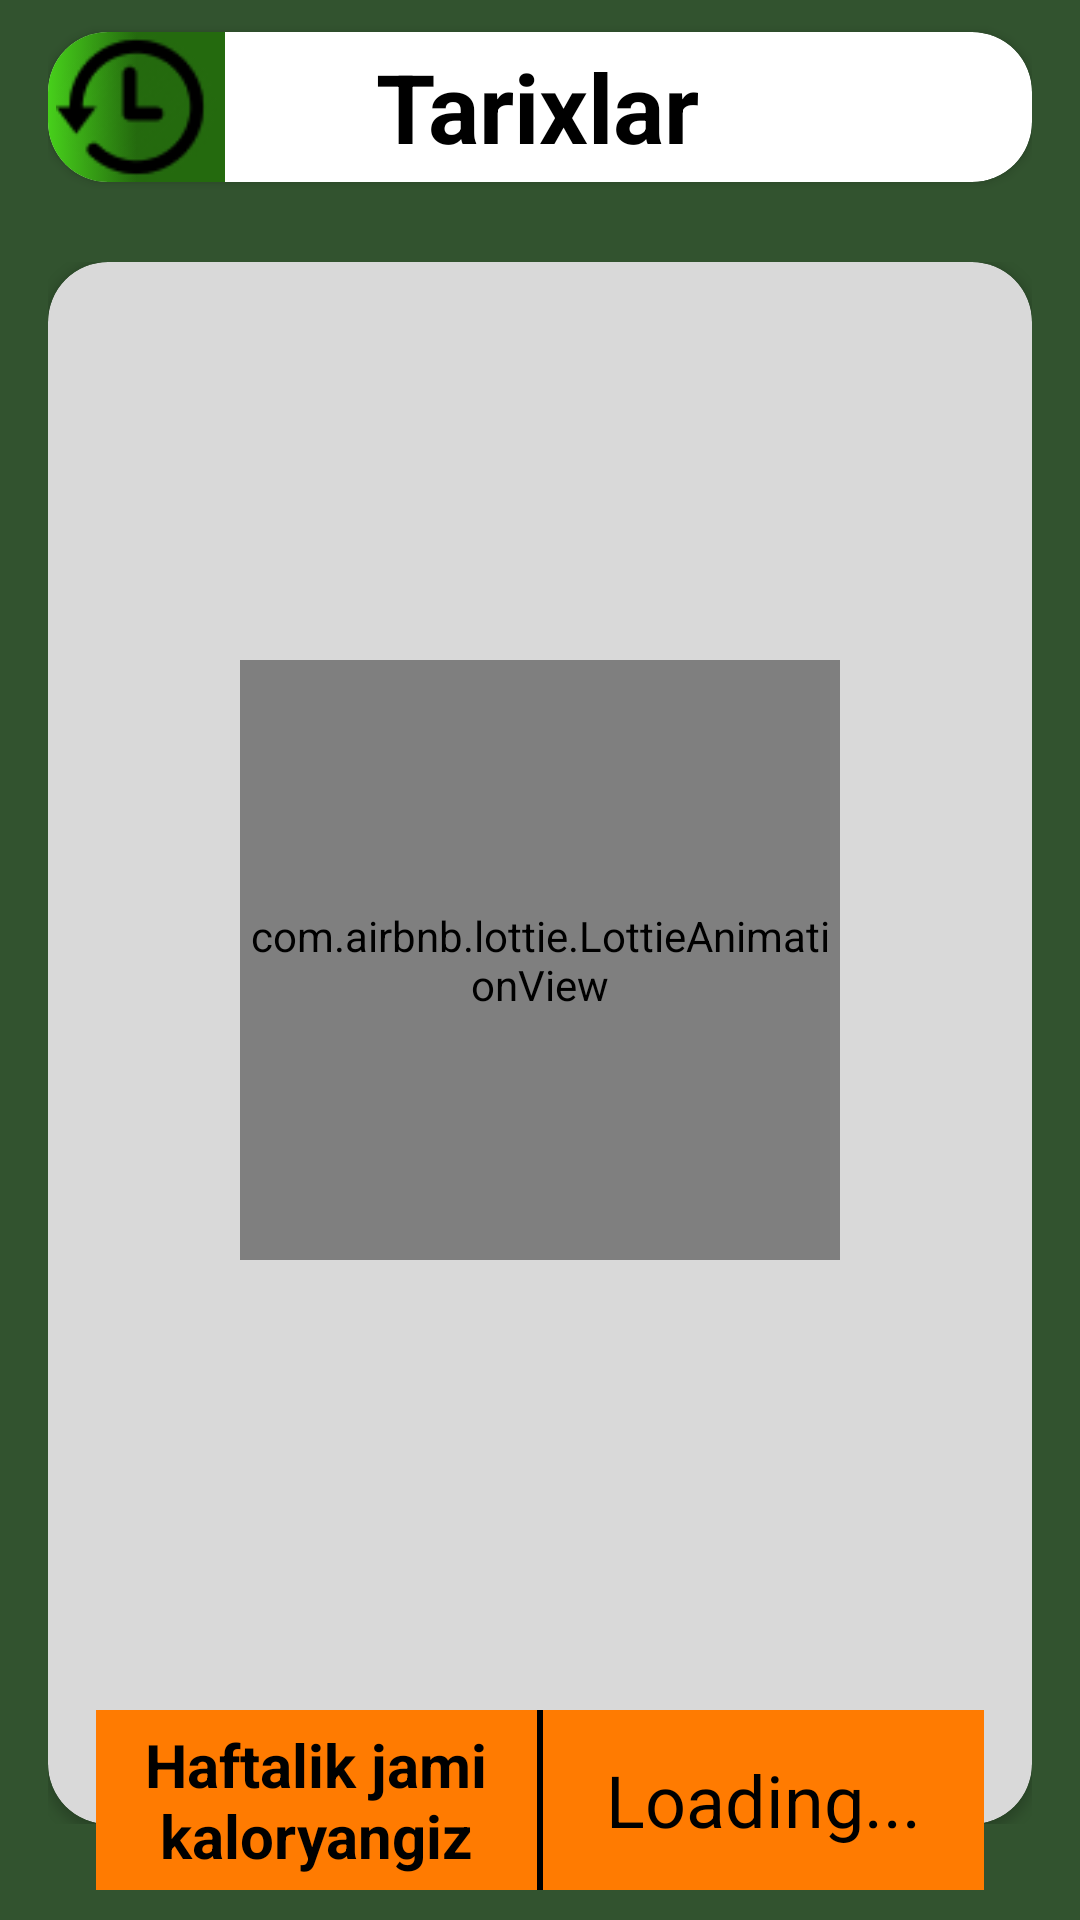

Named icons in this screenshot (1080 × 1920) and their bounding boxes, (x1, y1, x2, y2):
pic history: (48, 32, 225, 182)
